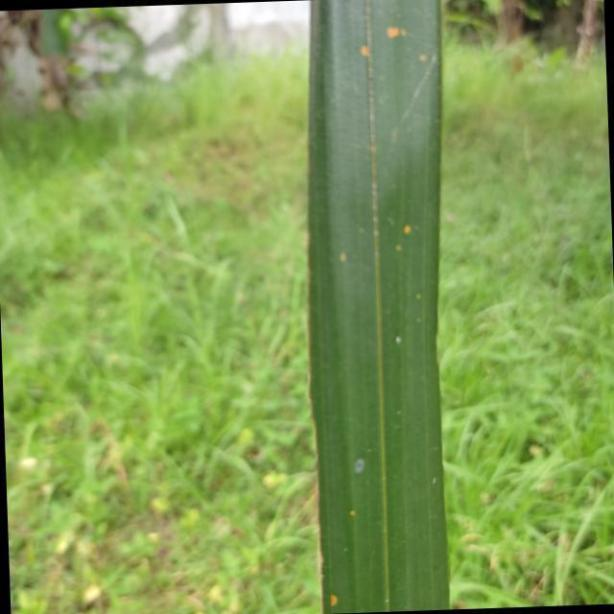Kalium: (307, 0, 443, 614)
